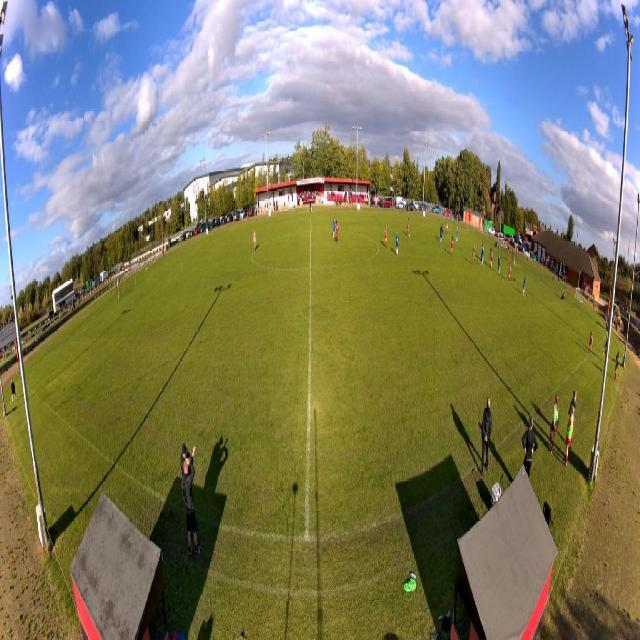ball: (409, 234, 410, 238)
player: (589, 329, 593, 355), (335, 219, 339, 243), (471, 245, 475, 266), (480, 246, 484, 267), (396, 231, 399, 257), (254, 229, 257, 251), (333, 218, 336, 239), (523, 275, 526, 296), (508, 262, 511, 282), (498, 255, 501, 275), (406, 218, 409, 237), (451, 236, 454, 255), (440, 226, 443, 243), (385, 225, 387, 246), (483, 243, 485, 264), (490, 249, 492, 269), (440, 224, 442, 242), (456, 227, 458, 243), (498, 239, 500, 255), (446, 221, 448, 235), (482, 241, 484, 252), (492, 248, 493, 269), (442, 224, 443, 235)
